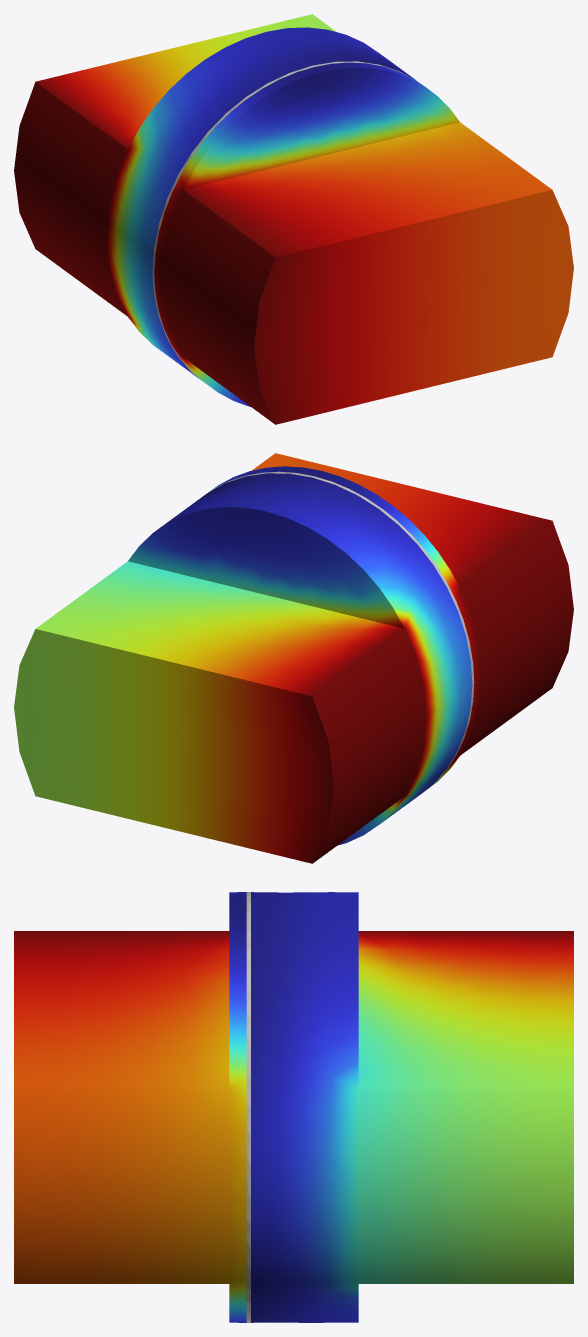
3 renders of one model, top to bottom at view 1: azimuth 30°, elevation 25°; view 2: azimuth 150°, elevation 25°; view 3: azimuth 270°, elevation 25°, orthographic. The views are drawn at different scales.
Size of the model in its own units: 0.001 by 0.001 by 0.0013.
Materials: 3 (3 with a texture image).
